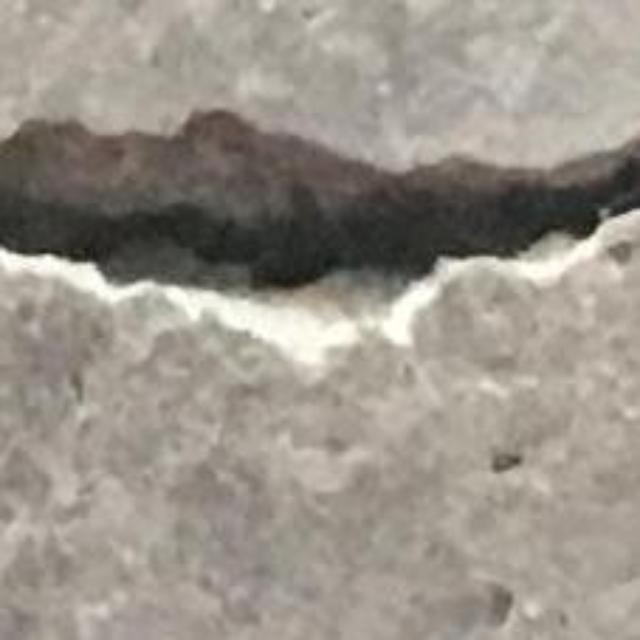crack: (0, 110, 639, 366)
